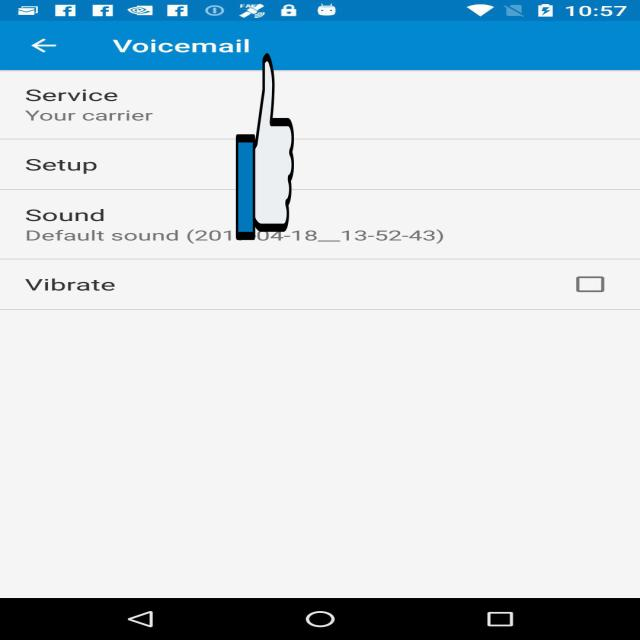privacy zuckering: (236, 49, 294, 244)
